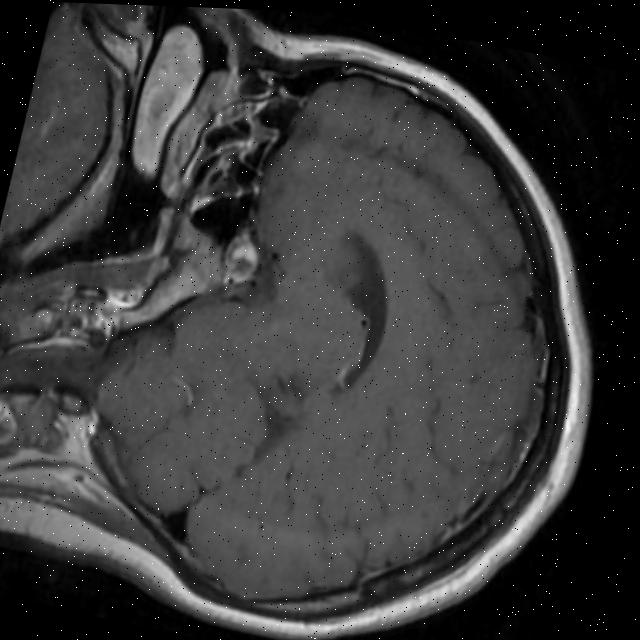Pituitary: (214, 224, 266, 291)
